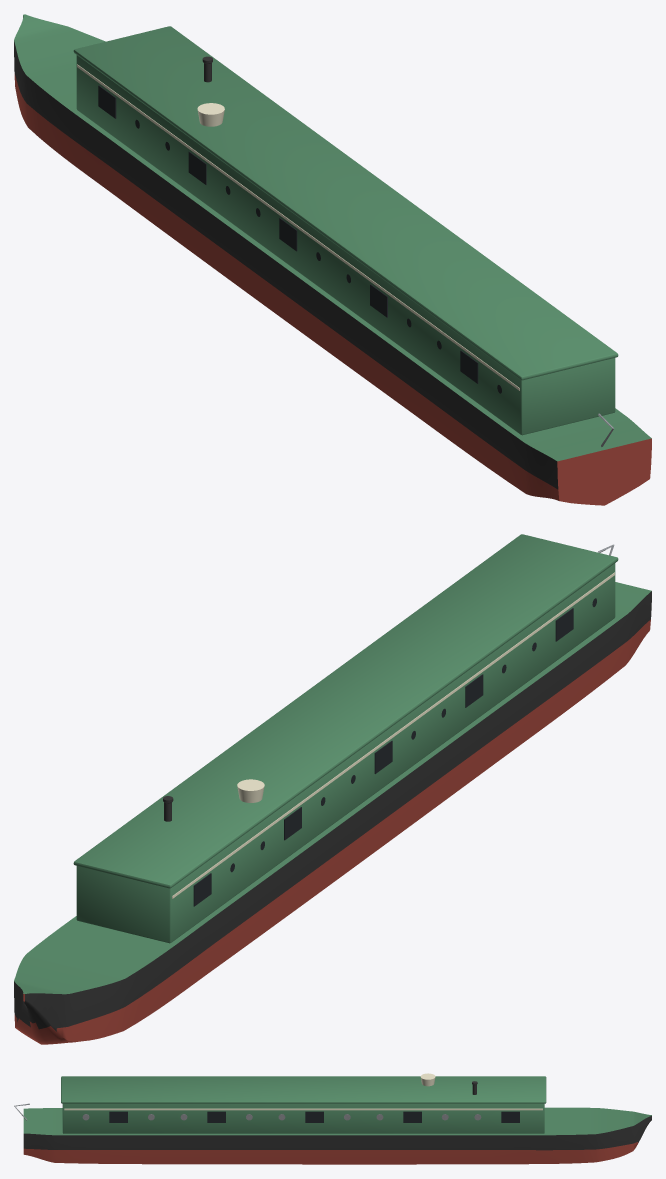
Rendered from boat_narrowboat_green.gltf.
The picture shows the model from 3 angles, top to bottom: view 1: azimuth 30°, elevation 25°; view 2: azimuth 150°, elevation 25°; view 3: azimuth 270°, elevation 25°; orthographic projection. The views are drawn at different scales.
Visible parts, largest first — view 1: boat_narrowboat_green; view 2: boat_narrowboat_green; view 3: boat_narrowboat_green.
Part boxes in pixels (x1,y1,x2,y2): boat_narrowboat_green: [14, 14, 651, 505]; boat_narrowboat_green: [14, 534, 651, 1044]; boat_narrowboat_green: [14, 1073, 651, 1164].
Size of the model in its own units: 2.1 by 2.71 by 20.52.
7 materials, 2 textured.
